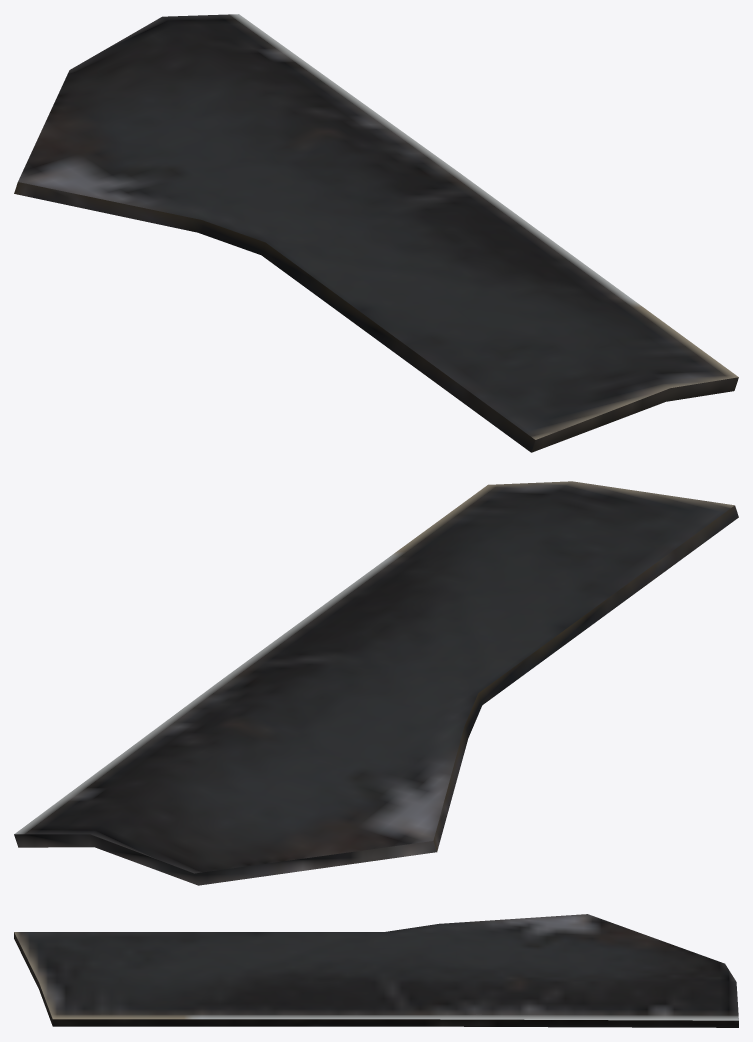
Rendered from CavalierDoorArmor_WorldItem.fbx.
The picture shows the model from 3 angles, top to bottom: view 1: azimuth 30°, elevation 25°; view 2: azimuth 150°, elevation 25°; view 3: azimuth 270°, elevation 25°; orthographic projection. The views are drawn at different scales.
Visible parts, largest first — view 1: FrontRightDoorArmor_obj; view 2: FrontRightDoorArmor_obj; view 3: FrontRightDoorArmor_obj.
Part boxes in pixels (left/top/right/bottom): FrontRightDoorArmor_obj: left=14, top=14, right=738, bottom=452; FrontRightDoorArmor_obj: left=14, top=481, right=738, bottom=885; FrontRightDoorArmor_obj: left=14, top=914, right=738, bottom=1027.
Size of the model in its own units: 0.3621 by 0.0364 by 0.9849.
